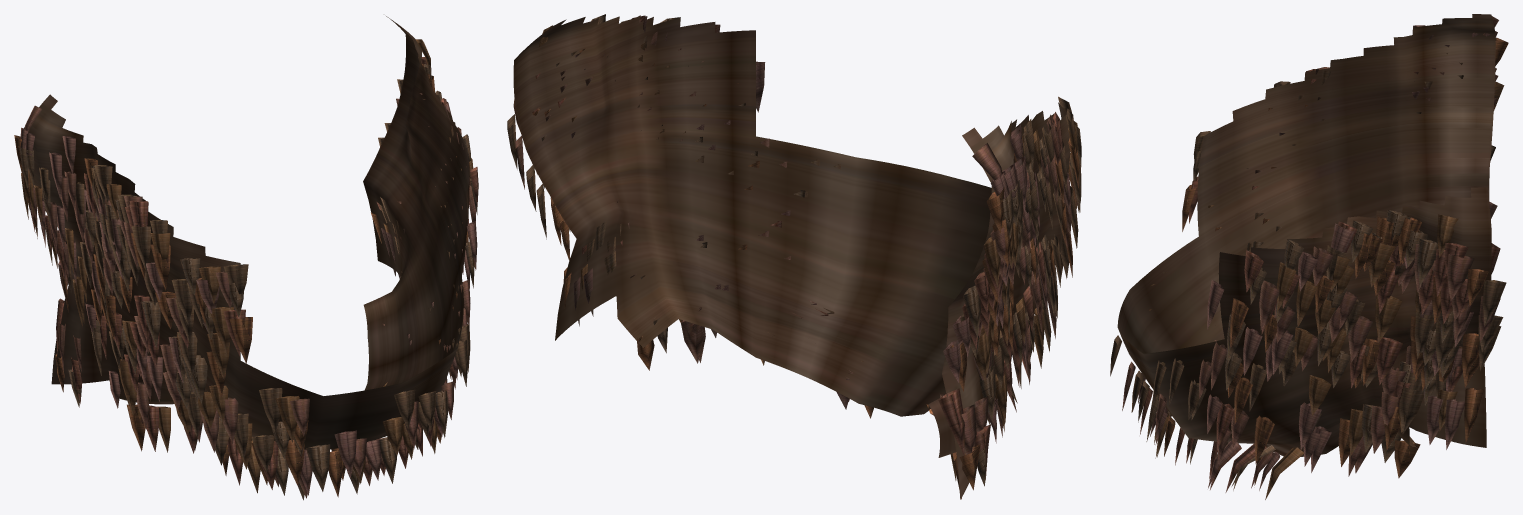
File: queixo.glb
3 renders of one model, left to right at view 1: azimuth 30°, elevation 25°; view 2: azimuth 150°, elevation 25°; view 3: azimuth 270°, elevation 25°, orthographic. The views are drawn at different scales.
Visible parts, largest first — view 1: barba_queixo; view 2: barba_queixo; view 3: barba_queixo.
Boxes of the visible parts, x1,y1,x2,y2 form: barba_queixo: [14, 16, 478, 500]; barba_queixo: [507, 14, 1081, 499]; barba_queixo: [1110, 14, 1508, 499].
Size of the model in its own units: 0.1946 by 0.165 by 0.1578.
1 material, 1 textured.
